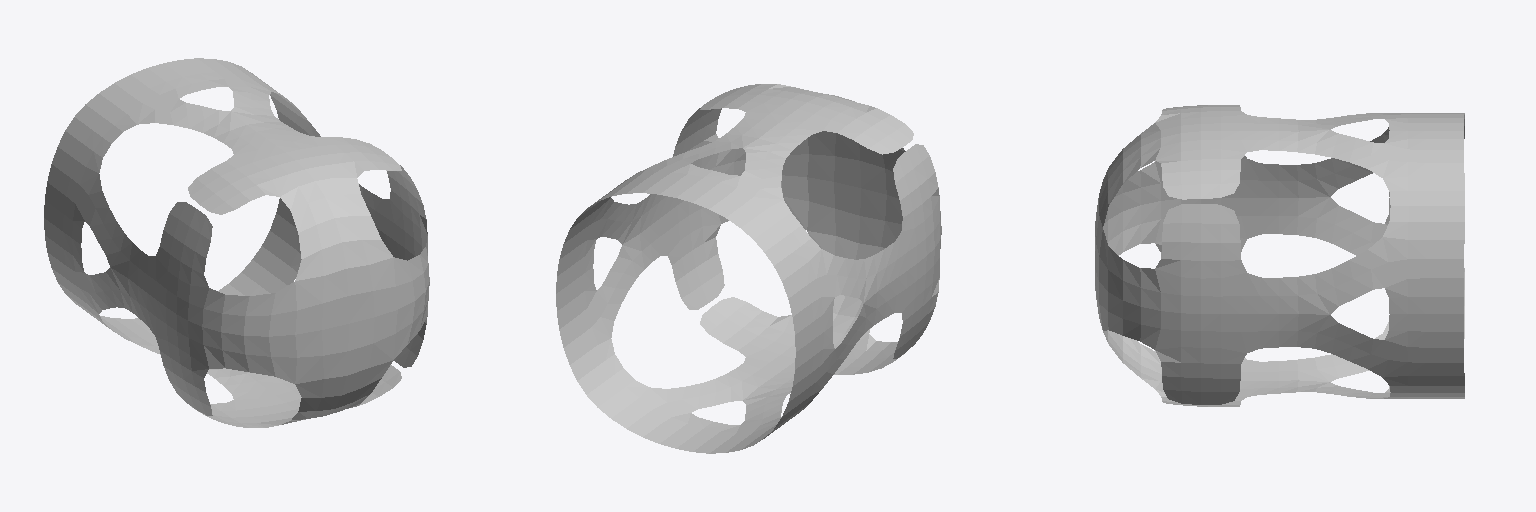
The model's file is lampC-sub1.obj.
3 views of the same model, side by side, from view 1: azimuth 30°, elevation 25°; view 2: azimuth 150°, elevation 25°; view 3: azimuth 270°, elevation 25° (orthographic).
Visible parts, largest first — view 1: Plane_Plane.002; view 2: Plane_Plane.002; view 3: Plane_Plane.002.
Part boxes in pixels (left/top/right/bottom): Plane_Plane.002: left=44, top=58, right=429, bottom=427; Plane_Plane.002: left=556, top=84, right=941, bottom=453; Plane_Plane.002: left=1095, top=105, right=1464, bottom=406.
Bounding box in the file's own units: 3.78 × 3.78 × 5.03.